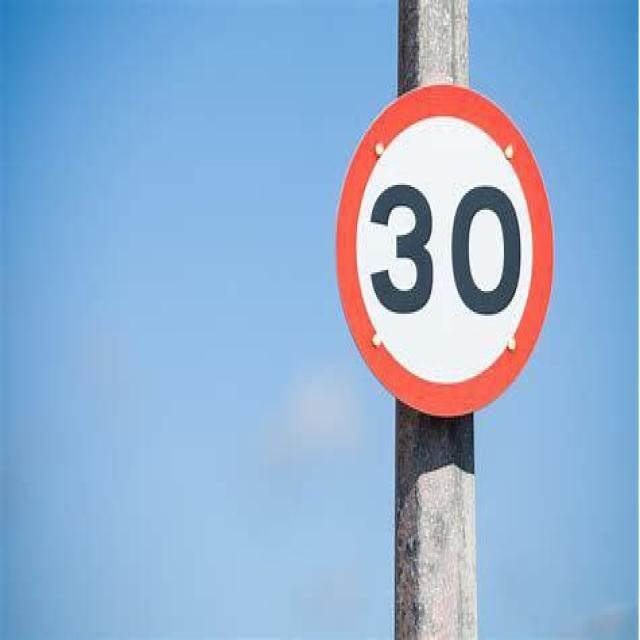speedlimit_30: (334, 87, 559, 418)
